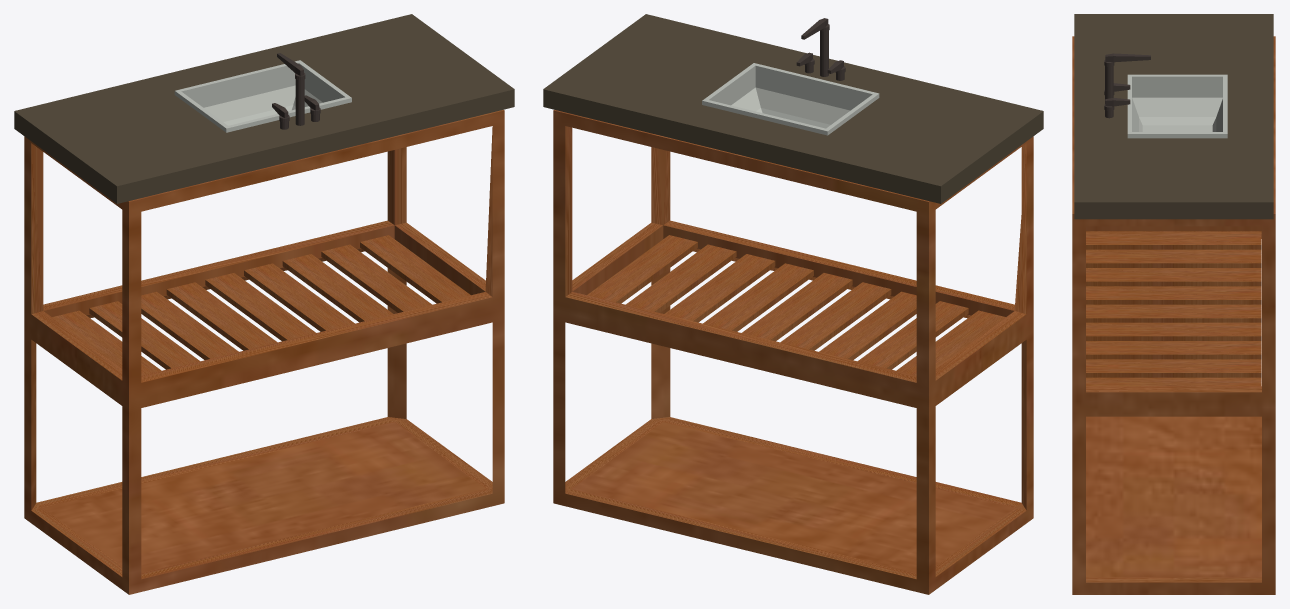
Rendered from LavavoBaño.fbx.
3 renders of one model, left to right at view 1: azimuth 30°, elevation 25°; view 2: azimuth 150°, elevation 25°; view 3: azimuth 270°, elevation 25°, orthographic. The views are drawn at different scales.
Parts seen in each view (by area): view 1: BachaBaño; view 2: BachaBaño; view 3: BachaBaño.
Part boxes in pixels (x1=…): BachaBaño: x1=14, y1=14, x2=514, y2=594; BachaBaño: x1=543, y1=14, x2=1043, y2=594; BachaBaño: x1=1072, y1=14, x2=1275, y2=594.
Size of the model in its own units: 1.06 by 1.19 by 0.4833.
